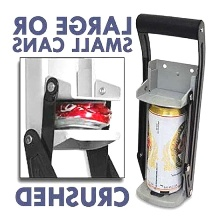can: (140, 103, 189, 195), (51, 96, 114, 131)
